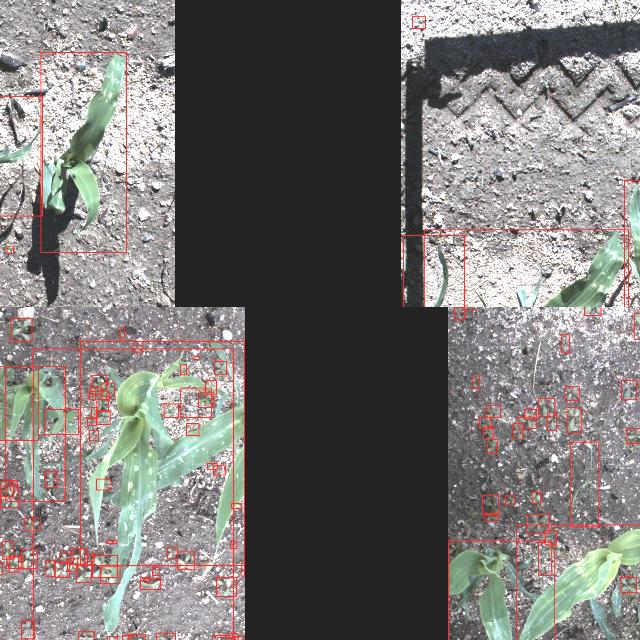crop: (32, 348, 233, 640), (80, 341, 244, 565), (41, 52, 127, 252), (424, 230, 628, 307), (516, 525, 640, 640), (447, 540, 554, 640), (5, 366, 65, 502), (0, 96, 42, 215), (402, 235, 463, 307)
weed: (0, 366, 38, 440), (570, 442, 598, 526), (180, 388, 212, 418), (44, 410, 78, 434), (92, 555, 118, 577), (10, 318, 32, 342), (526, 514, 548, 534), (538, 542, 550, 576), (0, 486, 18, 508), (100, 566, 120, 584), (217, 578, 237, 596), (567, 408, 581, 432), (21, 549, 37, 569), (482, 495, 498, 515), (70, 548, 88, 564), (76, 564, 92, 582), (538, 398, 554, 416), (622, 380, 636, 400), (178, 552, 195, 568), (198, 392, 214, 408), (54, 562, 70, 578), (140, 578, 160, 590), (21, 621, 34, 639), (92, 375, 106, 391), (620, 578, 636, 592), (564, 386, 580, 400), (2, 541, 14, 559), (626, 428, 640, 443), (5, 556, 22, 568), (164, 404, 178, 418), (96, 410, 110, 424), (44, 472, 56, 488), (24, 518, 40, 530), (0, 481, 12, 497), (215, 361, 228, 375), (102, 382, 115, 396), (633, 314, 640, 340), (518, 418, 536, 428), (66, 558, 78, 572), (486, 406, 500, 418), (58, 553, 74, 563), (513, 423, 523, 439), (546, 530, 556, 546), (206, 380, 217, 394), (96, 478, 110, 489), (412, 17, 424, 29), (187, 423, 199, 435), (97, 399, 109, 411), (561, 335, 569, 353), (548, 412, 556, 430), (487, 439, 497, 453), (583, 307, 600, 315), (156, 633, 175, 640), (10, 556, 18, 572), (46, 560, 54, 576), (78, 632, 93, 640), (524, 409, 536, 419), (479, 418, 491, 428), (483, 427, 493, 439), (454, 307, 464, 319), (484, 513, 498, 521), (128, 634, 145, 640), (167, 548, 177, 558), (214, 466, 226, 474), (471, 376, 479, 388), (212, 635, 229, 640), (87, 417, 97, 425), (90, 430, 98, 440), (10, 481, 18, 491), (84, 554, 94, 562), (152, 566, 160, 576), (532, 492, 540, 502), (506, 496, 514, 504), (229, 633, 238, 640), (132, 346, 142, 352), (181, 365, 187, 375), (90, 388, 100, 394), (91, 408, 97, 418), (207, 463, 217, 469), (6, 245, 14, 252), (89, 392, 95, 401), (241, 564, 245, 576), (230, 542, 238, 548), (120, 327, 124, 337), (107, 540, 117, 544), (107, 636, 117, 640), (234, 636, 244, 640), (232, 504, 242, 508), (144, 577, 150, 583), (122, 636, 131, 640), (106, 394, 110, 400), (194, 356, 200, 359)
